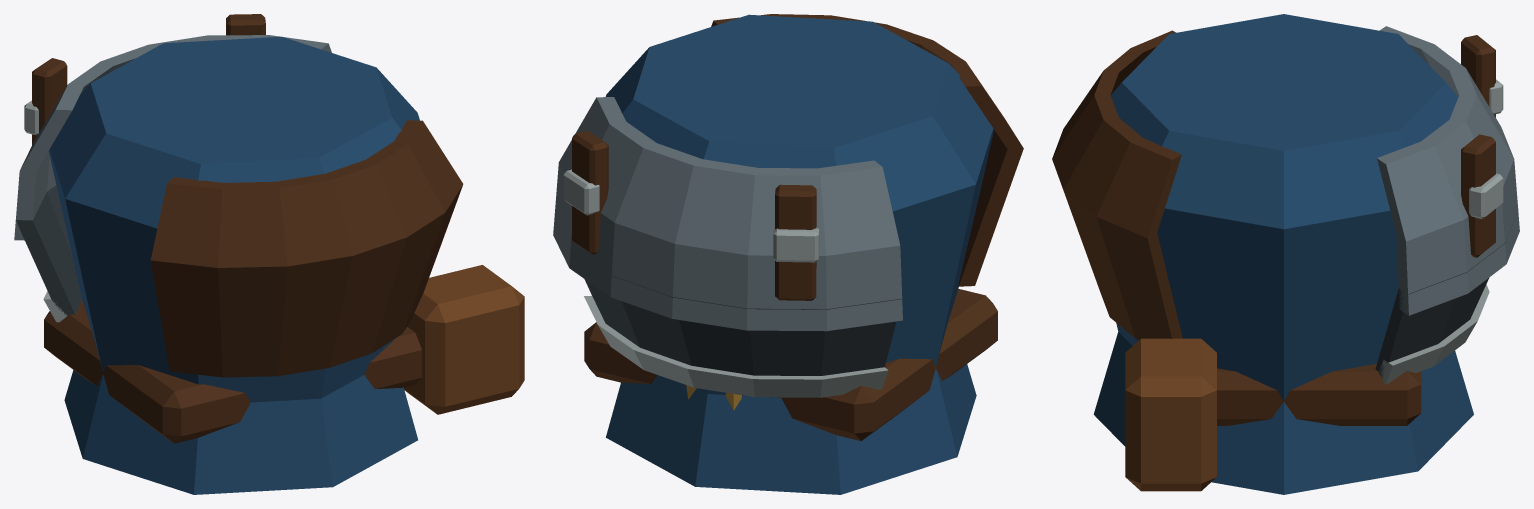
The model's file is Rider.glb.
3 views of the same model, side by side, from view 1: azimuth 30°, elevation 25°; view 2: azimuth 150°, elevation 25°; view 3: azimuth 270°, elevation 25° (orthographic). The views are drawn at different scales.
Parts seen in each view (by area): view 1: Sculpture; view 2: Sculpture; view 3: Sculpture.
Part boxes in pixels (left/top/right/bottom): Sculpture: left=14, top=14, right=524, bottom=494; Sculpture: left=553, top=14, right=1023, bottom=494; Sculpture: left=1052, top=14, right=1519, bottom=494.
Bounding box in the file's own units: 0.665 × 0.52 × 0.664.
